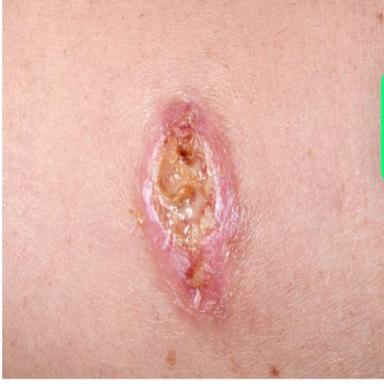Leishmanios: (133, 97, 245, 319)
